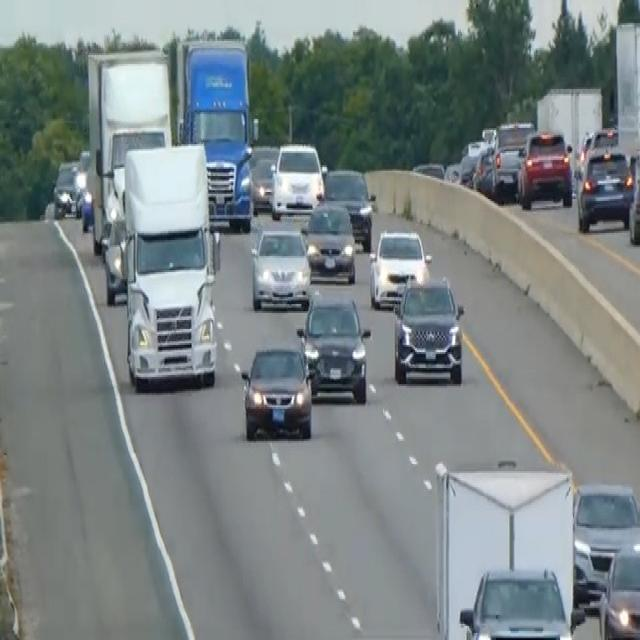car: (458, 564, 583, 638), (572, 480, 639, 610), (392, 272, 465, 386), (297, 290, 371, 402), (240, 343, 313, 441), (249, 224, 311, 311), (368, 226, 430, 309), (575, 146, 633, 233), (516, 126, 573, 210), (301, 199, 356, 283), (322, 165, 375, 249), (270, 140, 325, 218), (597, 539, 639, 638), (490, 119, 534, 196), (100, 215, 127, 304), (249, 144, 278, 210), (52, 158, 81, 219), (457, 137, 489, 185), (471, 144, 494, 192), (628, 150, 639, 246), (411, 158, 445, 180)
lorry: (119, 141, 222, 391)
